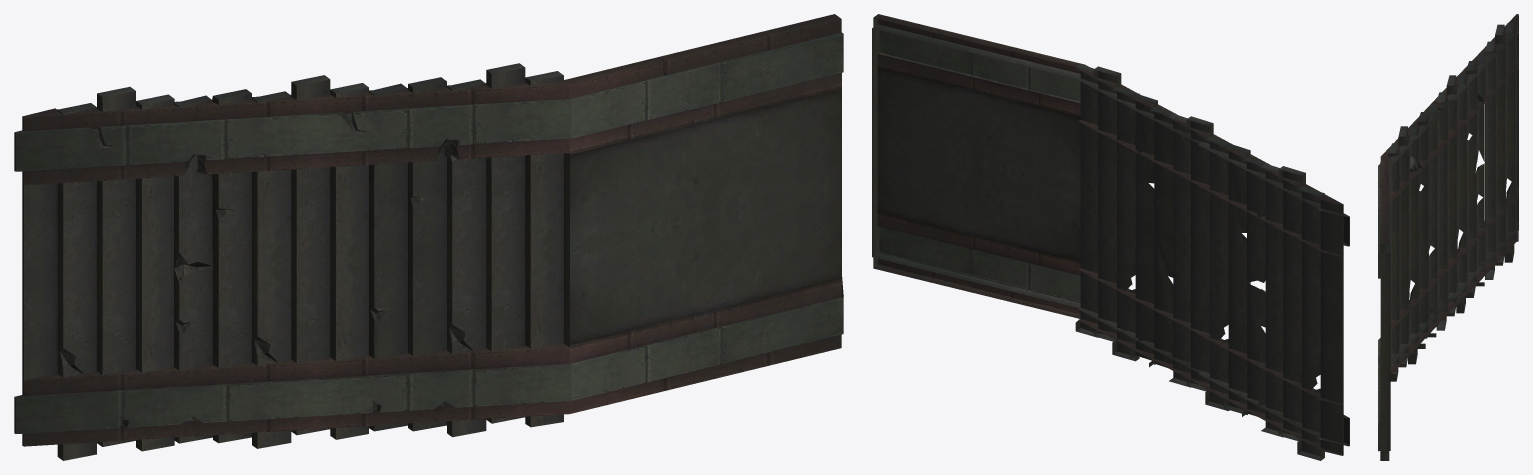
The model's file is shenjie_dongxue_374_jieti03_d.obj.
The picture shows the model from 3 angles, left to right: view 1: azimuth 30°, elevation 25°; view 2: azimuth 150°, elevation 25°; view 3: azimuth 270°, elevation 25°; orthographic projection. The views are drawn at different scales.
Parts seen in each view (by area): view 1: shenjie_dongxue_374_jieti03_d; view 2: shenjie_dongxue_374_jieti03_d; view 3: shenjie_dongxue_374_jieti03_d.
Part boxes in pixels (bbox=[...]): shenjie_dongxue_374_jieti03_d: bbox=[14, 14, 843, 460]; shenjie_dongxue_374_jieti03_d: bbox=[872, 14, 1349, 460]; shenjie_dongxue_374_jieti03_d: bbox=[1378, 14, 1518, 460].
Bounding box in the file's own units: 877 × 419 × 224.
4 materials, 4 textured.
